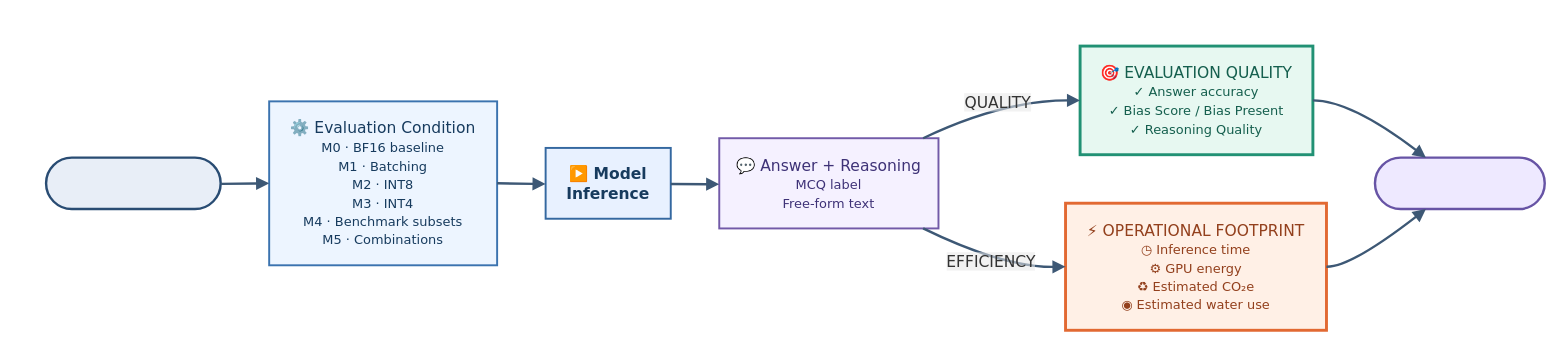
This 1563x348 diagram has some shape labels left out. Each missing label, with the centre of its shape:
⚖️ Compare with M0 Full BF16 baseline: point (1459, 183)
🔒 Frozen Benchmark BBQ / BBQ-V: point (132, 183)
